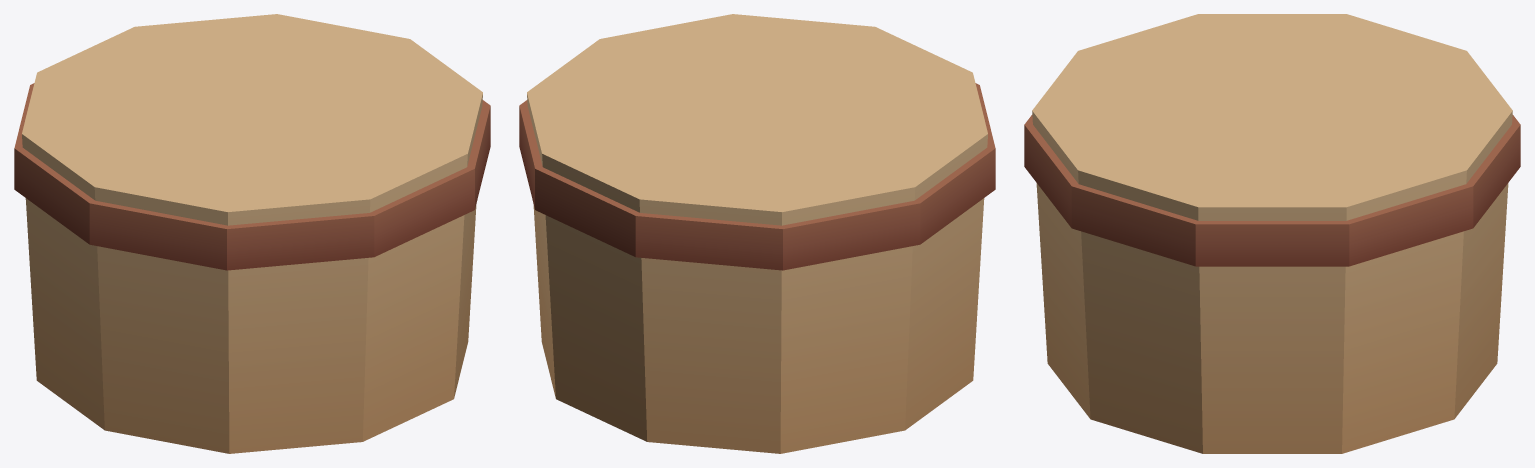
Rendered from leather_leggings_shin_r.glb.
3 views of the same model, side by side, from view 1: azimuth 30°, elevation 25°; view 2: azimuth 150°, elevation 25°; view 3: azimuth 270°, elevation 25° (orthographic).
Visible parts, largest first — view 1: leather_leggings_shin; view 2: leather_leggings_shin; view 3: leather_leggings_shin.
Part boxes in pixels (box(x1,y1,x2,y2)): leather_leggings_shin: box(14, 14, 490, 453); leather_leggings_shin: box(519, 14, 995, 453); leather_leggings_shin: box(1024, 14, 1520, 453).
Bounding box in the file's own units: 0.3043 × 0.18 × 0.32.
Materials: 1 (1 with a texture image).
